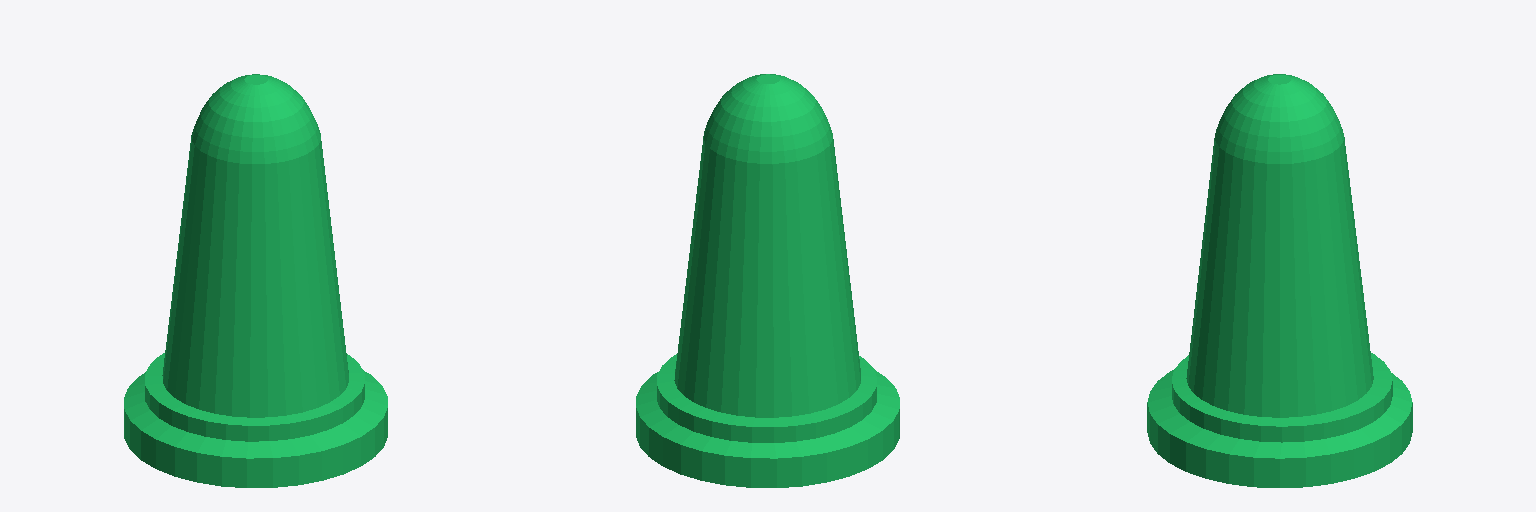
3 views of the same model, side by side, from view 1: azimuth 30°, elevation 25°; view 2: azimuth 150°, elevation 25°; view 3: azimuth 270°, elevation 25° (orthographic).
Visible parts, largest first — view 1: Cylinder; view 2: Cylinder; view 3: Cylinder.
Part boxes in pixels (bbox=[...]): Cylinder: bbox=[124, 74, 387, 487]; Cylinder: bbox=[636, 74, 899, 487]; Cylinder: bbox=[1147, 74, 1412, 487].
Bounding box in the file's own units: 0.1556 × 0.2286 × 0.1556.
Materials: 1 (1 with a texture image).